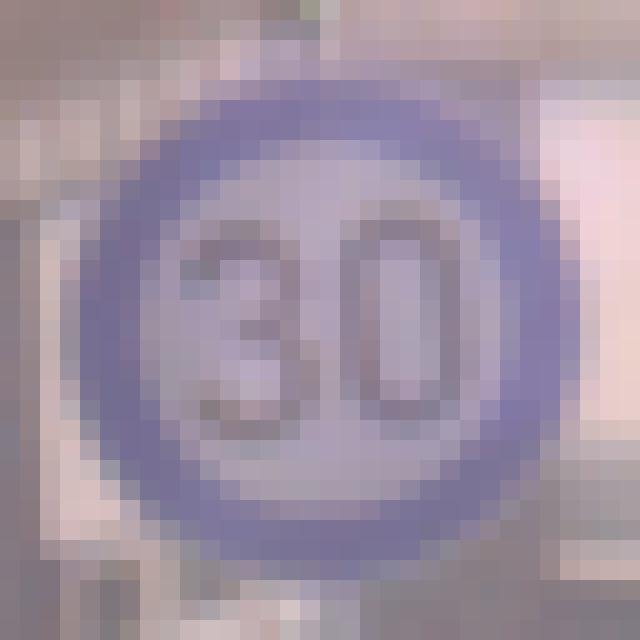SPEED LIMIT 30: (53, 80, 585, 578)
